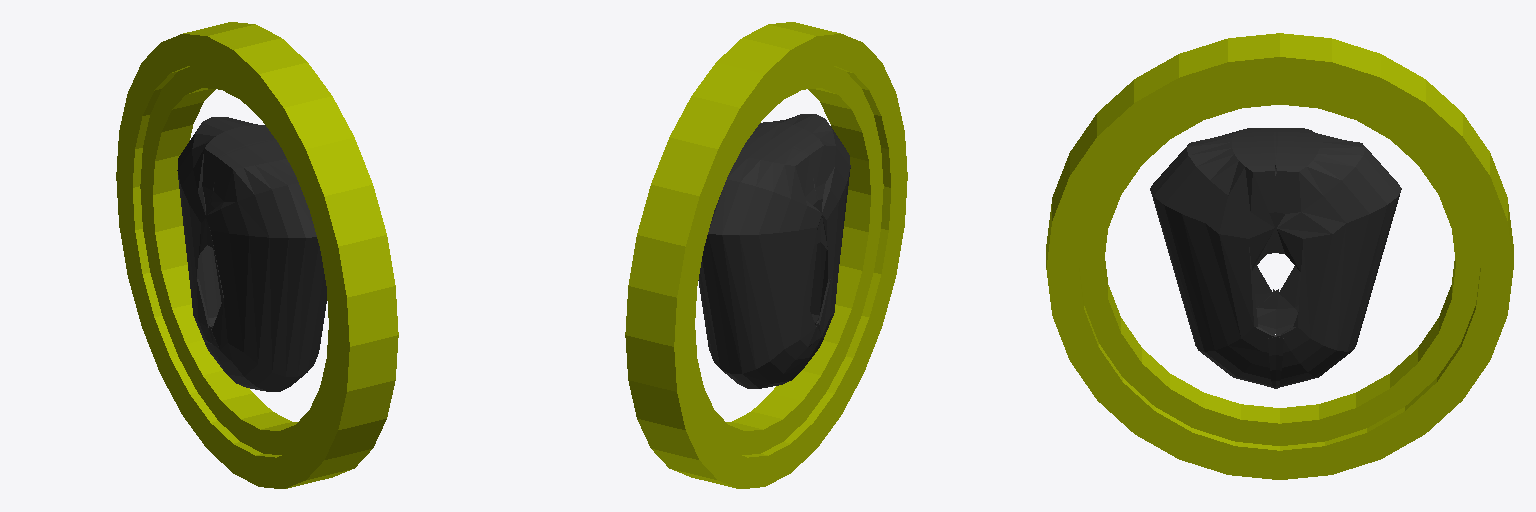
The model's file is shield_powerup.obj.
The picture shows the model from 3 angles: view 1: azimuth 30°, elevation 25°; view 2: azimuth 150°, elevation 25°; view 3: azimuth 270°, elevation 25°; orthographic projection.
Parts seen in each view (by area): view 1: Tube002, Box005, Tube001, Box004; view 2: Tube002, Box004, Tube001, Box005; view 3: Tube002, Tube001, Box005, Box004.
Part boxes in pixels (left/top/right/bottom): Tube002: left=116, top=22, right=398, bottom=488; Box005: left=206, top=139, right=326, bottom=391; Tube001: left=140, top=66, right=332, bottom=454; Box004: left=177, top=117, right=274, bottom=372; Tube002: left=625, top=22, right=907, bottom=488; Box004: left=698, top=136, right=821, bottom=388; Tube001: left=691, top=66, right=883, bottom=454; Box005: left=750, top=114, right=850, bottom=369; Tube002: left=1046, top=33, right=1513, bottom=479; Tube001: left=1079, top=87, right=1480, bottom=445; Box005: left=1150, top=128, right=1283, bottom=388; Box004: left=1268, top=128, right=1401, bottom=388.
Bounding box in the file's own units: 225 × 875 × 875.